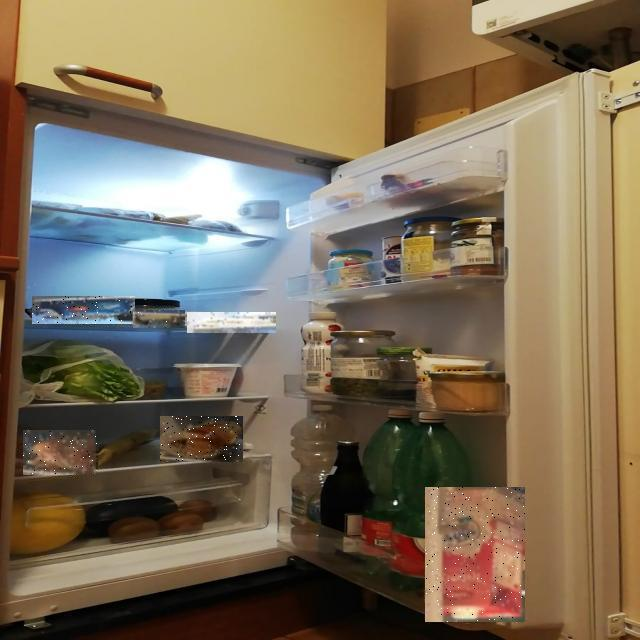Apple: (160, 417, 243, 463)
Butter: (187, 312, 276, 333)
Carrot: (24, 430, 98, 475)
Cheese: (32, 297, 135, 325), (133, 310, 185, 328)
Milk: (425, 487, 525, 622)
